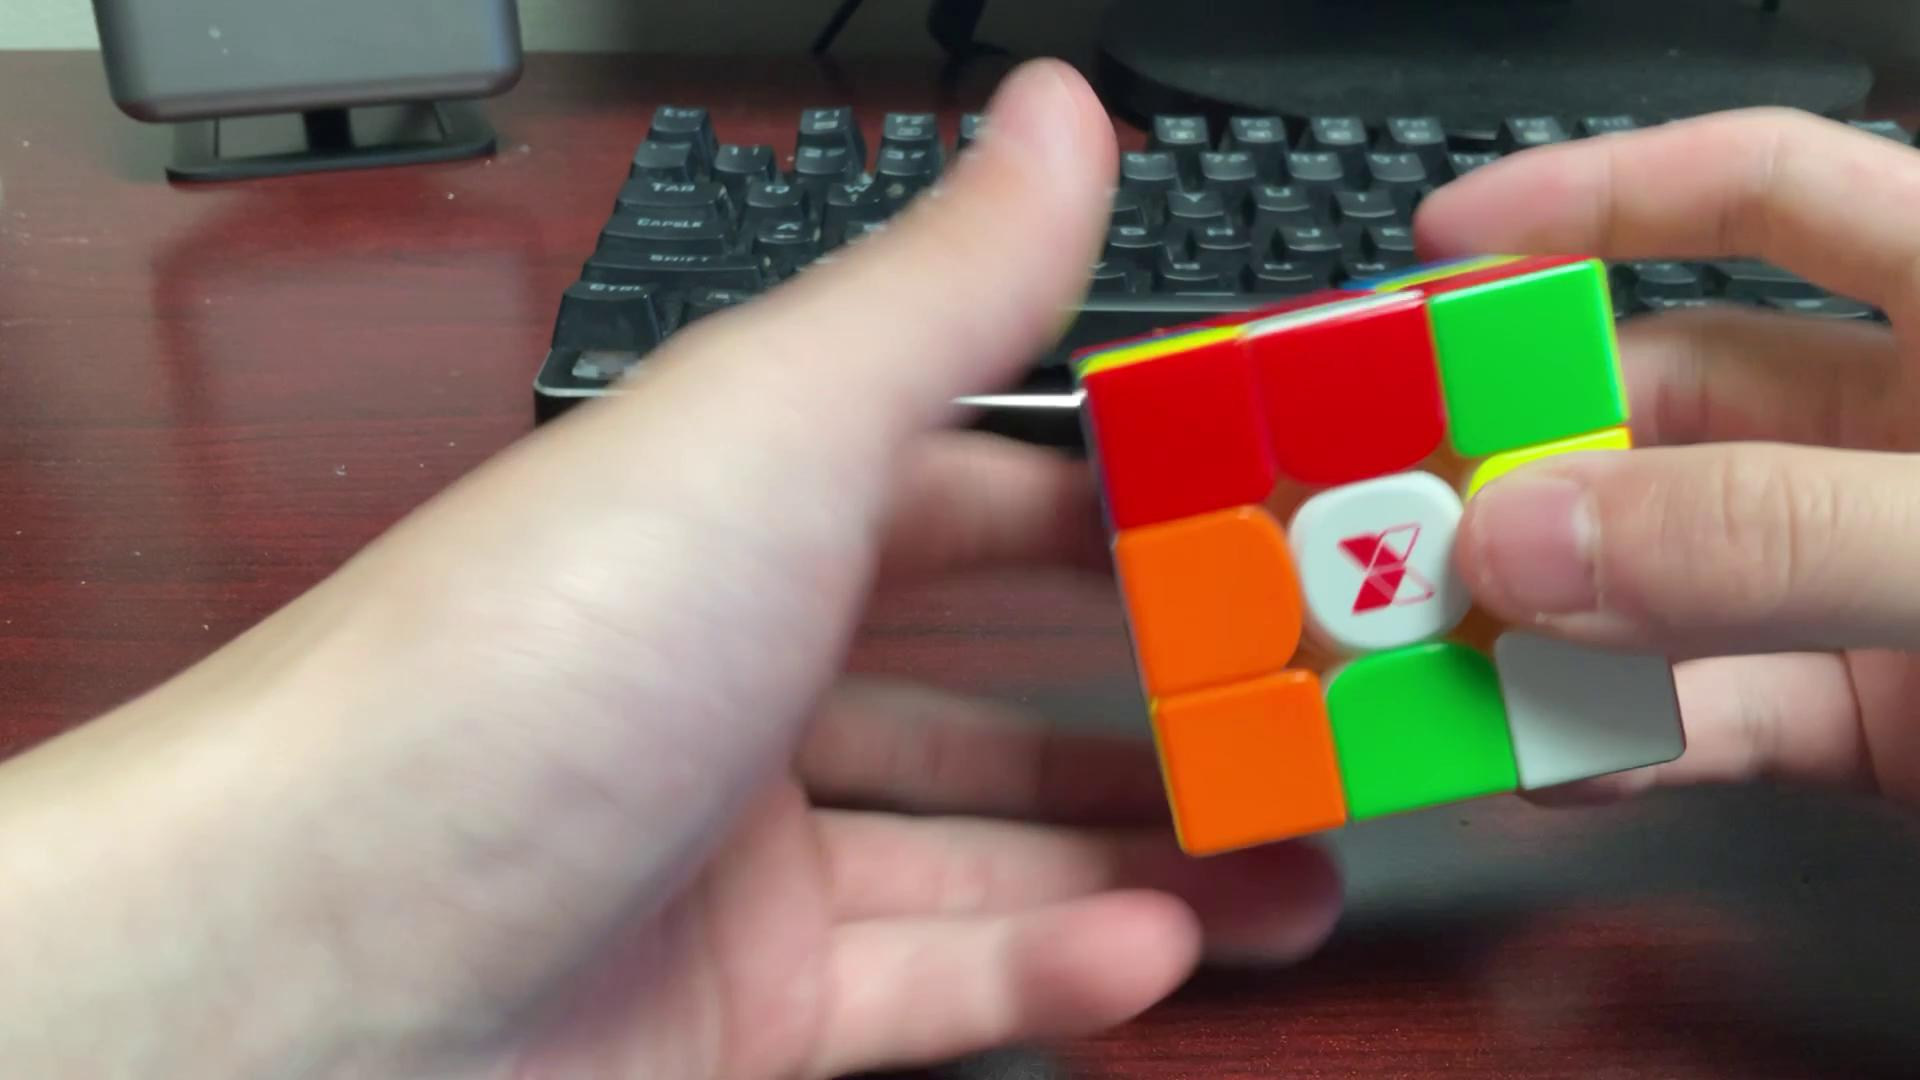Rubiks-Cube: (1063, 243, 1704, 862)
